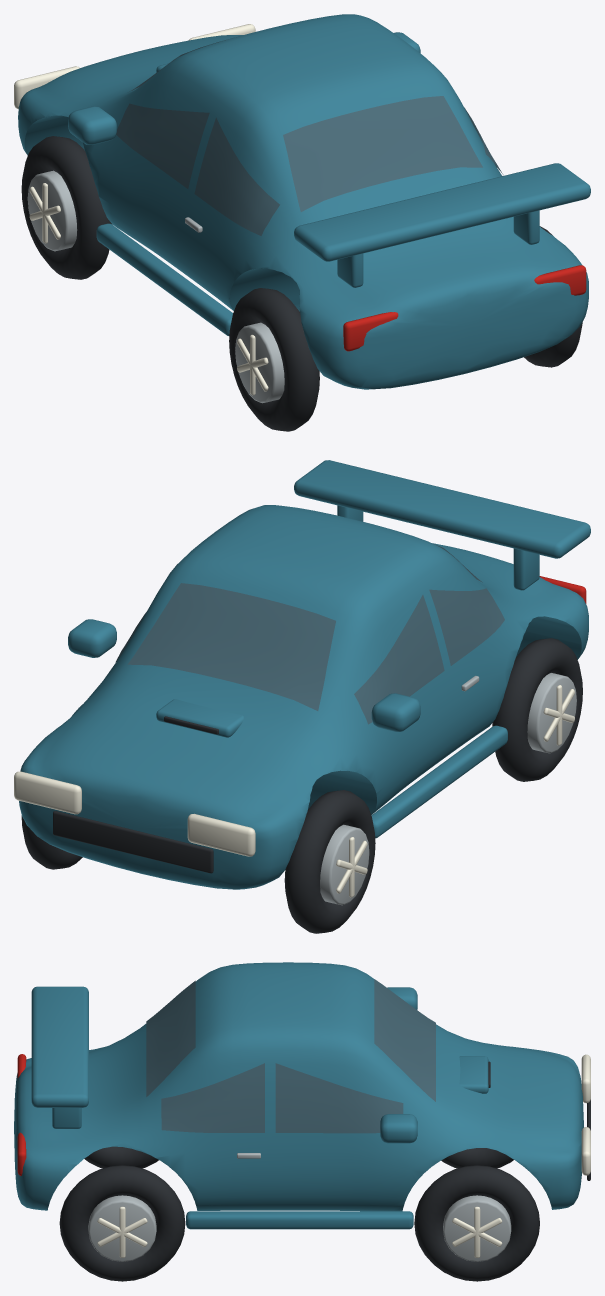
The model's file is car.glb.
3 renders of one model, top to bottom at view 1: azimuth 30°, elevation 25°; view 2: azimuth 150°, elevation 25°; view 3: azimuth 270°, elevation 25°, orthographic. The views are drawn at different scales.
Parts seen in each view (by area): view 1: trial_car_Petrol blue clay, trial_car_Smoked glazing, wheel_rear_left_Soft rubber, wheel_front_left_Soft rubber, wheel_rear_left_Satin alloy, wheel_front_left_Satin alloy, taillamp_-1, wheel_rear_right_Soft rubber, taillamp_1, wheel_front_left_Ivory clay, wheel_rear_left_Ivory clay, headlamp_-1; view 2: trial_car_Petrol blue clay, trial_car_Smoked glazing, wheel_front_left_Soft rubber, wheel_rear_left_Soft rubber, trial_car_Soft rubber, wheel_rear_left_Satin alloy, wheel_front_left_Satin alloy, headlamp_-1, headlamp_1, wheel_front_right_Soft rubber, wheel_rear_left_Ivory clay, wheel_front_left_Ivory clay; view 3: trial_car_Petrol blue clay, trial_car_Smoked glazing, wheel_rear_right_Soft rubber, wheel_front_right_Soft rubber, wheel_rear_right_Satin alloy, wheel_front_right_Satin alloy, wheel_rear_left_Soft rubber, wheel_front_left_Soft rubber, wheel_rear_right_Ivory clay, wheel_front_right_Ivory clay, headlamp_1, headlamp_-1.
Boxes of the visible parts, x1,y1,x2,y2 form: trial_car_Petrol blue clay: (18,14,590,389); trial_car_Smoked glazing: (116,40,503,235); wheel_rear_left_Soft rubber: (229,288,319,431); wheel_front_left_Soft rubber: (21,136,112,279); wheel_rear_left_Satin alloy: (235,322,284,403); wheel_front_left_Satin alloy: (27,170,77,251); taillamp_-1: (343,312,398,351); wheel_rear_right_Soft rubber: (524,226,582,367); taillamp_1: (534,265,586,295); wheel_front_left_Ivory clay: (29,183,60,243); wheel_rear_left_Ivory clay: (237,334,268,395); headlamp_-1: (14,66,79,108); trial_car_Petrol blue clay: (19,460,590,889); trial_car_Smoked glazing: (115,544,504,724); wheel_front_left_Soft rubber: (284,790,375,933); wheel_rear_left_Soft rubber: (492,638,582,781); trial_car_Soft rubber: (53,716,218,873); wheel_rear_left_Satin alloy: (527,673,576,753); wheel_front_left_Satin alloy: (320,824,369,905); headlamp_-1: (187,813,255,856); headlamp_1: (14,771,81,814); wheel_front_right_Soft rubber: (21,815,82,869); wheel_rear_left_Ivory clay: (543,685,574,745); wheel_front_left_Ivory clay: (336,837,367,897); trial_car_Petrol blue clay: (14,962,583,1229); trial_car_Smoked glazing: (146,979,435,1133); wheel_rear_right_Soft rubber: (59,1165,185,1281); wheel_front_right_Soft rubber: (414,1165,539,1281); wheel_rear_right_Satin alloy: (88,1195,156,1261); wheel_front_right_Satin alloy: (443,1195,511,1261); wheel_rear_left_Soft rubber: (84,1146,158,1168); wheel_front_left_Soft rubber: (441,1148,513,1168); wheel_rear_right_Ivory clay: (97,1206,147,1257); wheel_front_right_Ivory clay: (452,1206,502,1257); headlamp_1: (581,1127,590,1175); headlamp_-1: (581,1054,590,1103).
Bounding box in the file's own units: 2.49 × 1.92 × 4.31.
